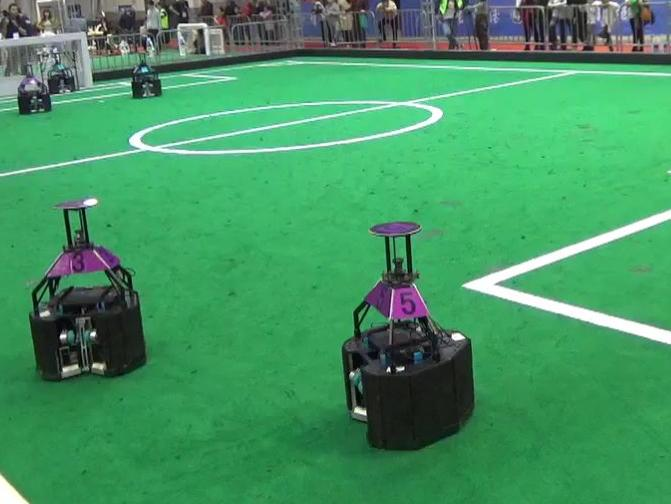robot: (339, 216, 486, 454), (23, 195, 151, 382), (13, 61, 54, 116), (127, 47, 165, 99)
